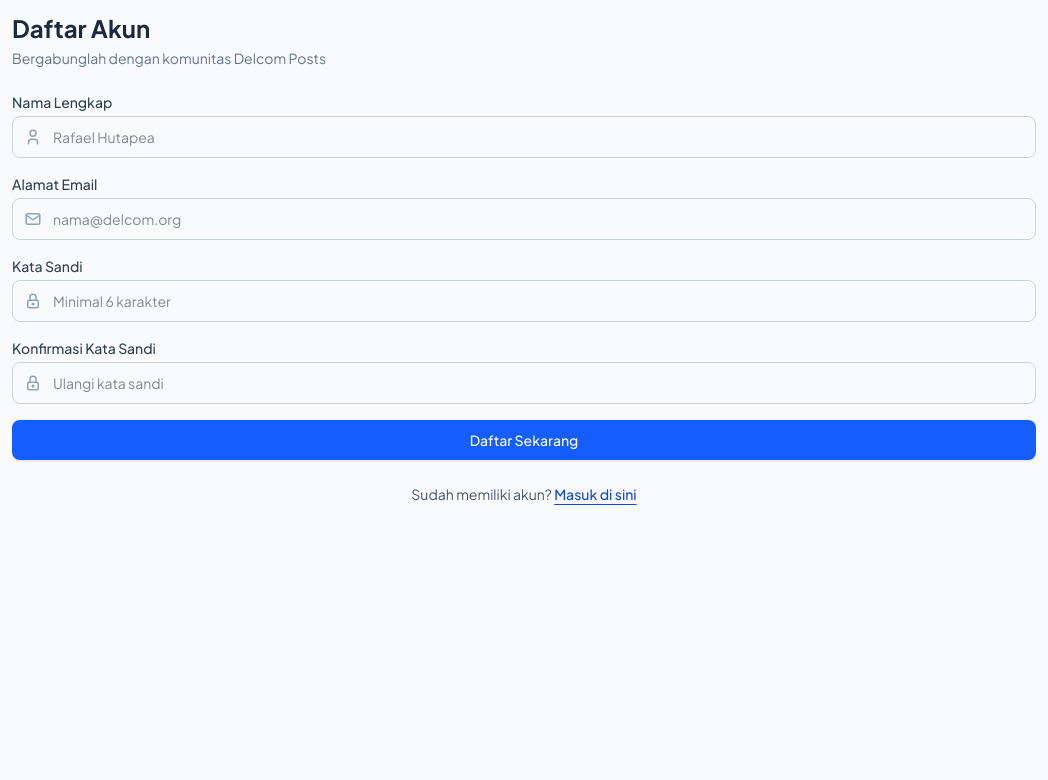
Test case: RegisterPage › should validate empty name
The image size is (1048, 780).
Click the button with id "register-submit-button" at point(524, 440), box [12,420,1036,460]
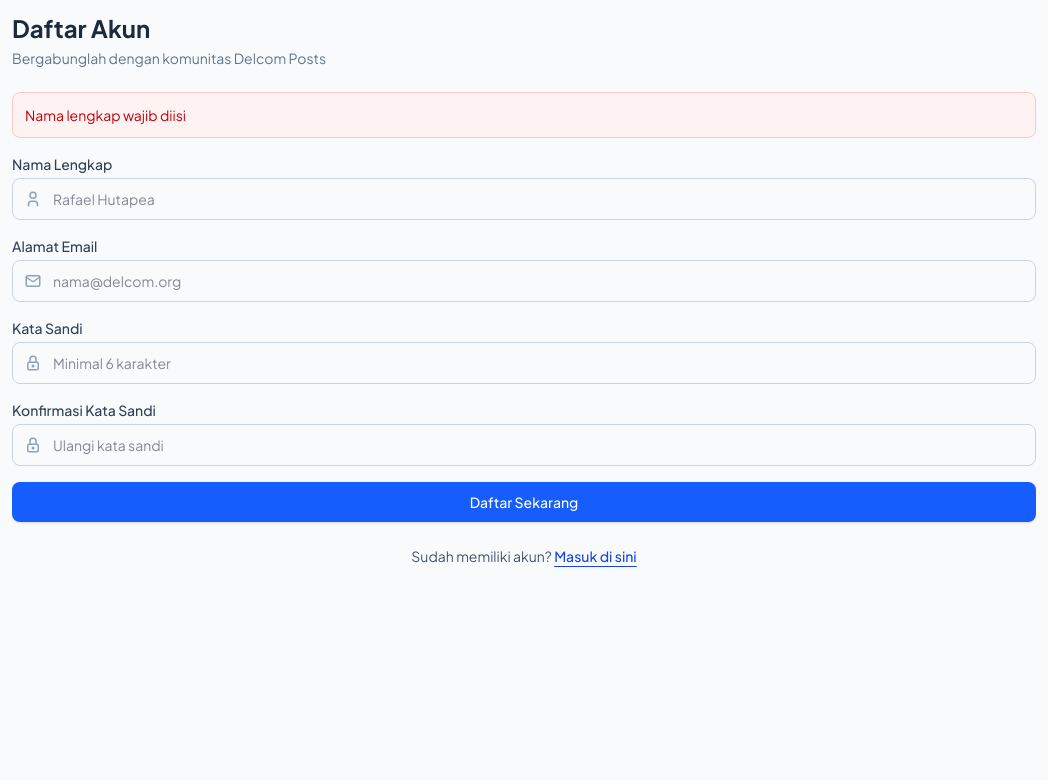
Expected: the message reads "Nama lengkap wajib diisi", [25,106,186,124]
